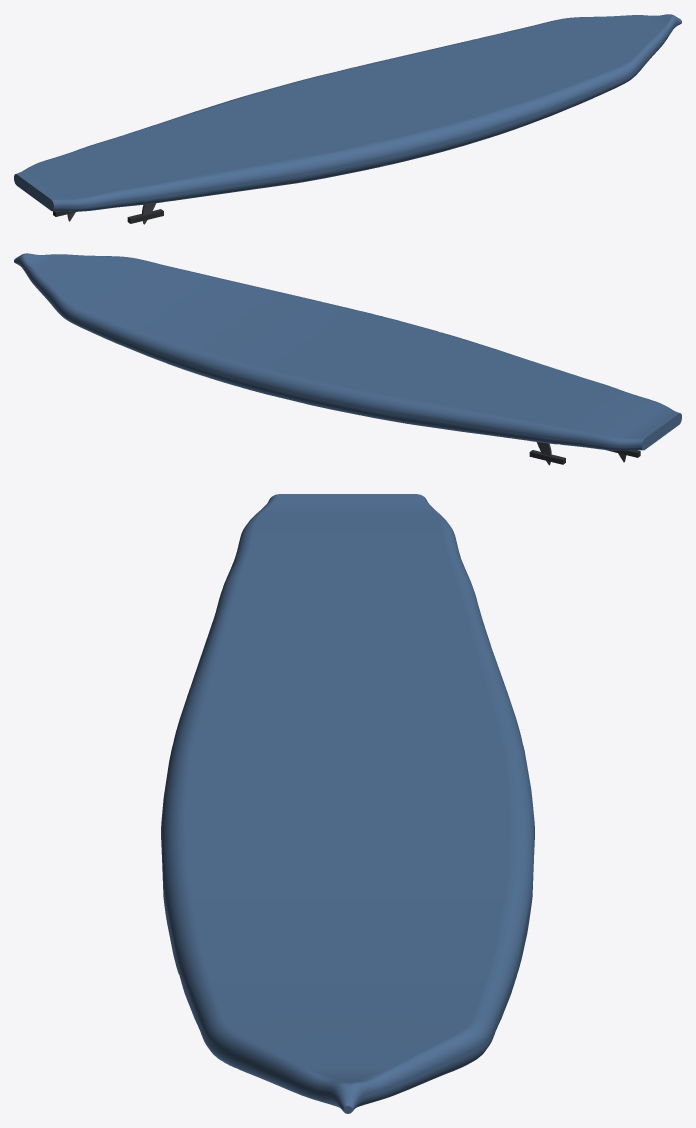
3 views of the same model, one above another, from view 1: azimuth 30°, elevation 25°; view 2: azimuth 150°, elevation 25°; view 3: azimuth 270°, elevation 25° (orthographic). The views are drawn at different scales.
Parts seen in each view (by area): view 1: body.1; view 2: body.1; view 3: body.1.
Part boxes in pixels (x1,y1,x2,y2): body.1: (14, 14, 681, 211); body.1: (14, 253, 681, 450); body.1: (161, 494, 534, 1113).
Bounding box in the file's own units: 2.29 × 0.2035 × 0.5726.
